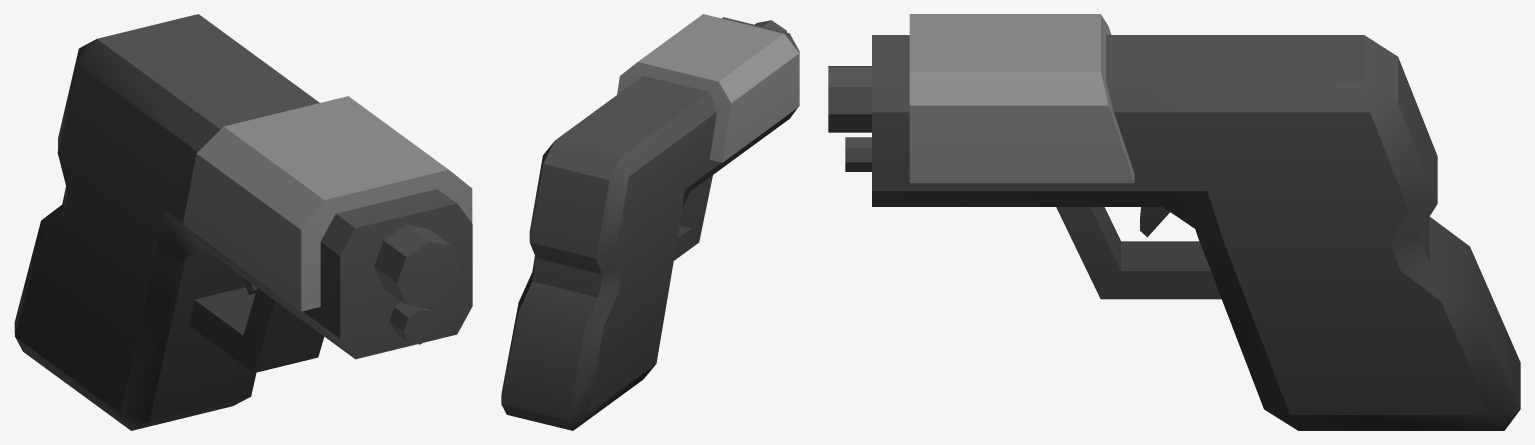
Rendered from Capsule_Weapon_Piston_Single_01.fbx.
3 renders of one model, left to right at view 1: azimuth 30°, elevation 25°; view 2: azimuth 150°, elevation 25°; view 3: azimuth 270°, elevation 25°, orthographic. The views are drawn at different scales.
Parts seen in each view (by area): view 1: Capsule_Weapon_Piston_Single_01; view 2: Capsule_Weapon_Piston_Single_01; view 3: Capsule_Weapon_Piston_Single_01.
Boxes of the visible parts, x1,y1,x2,y2 form: Capsule_Weapon_Piston_Single_01: (14, 14, 472, 430); Capsule_Weapon_Piston_Single_01: (501, 14, 799, 430); Capsule_Weapon_Piston_Single_01: (828, 14, 1520, 430).
Size of the model in its own units: 20.47 by 43.85 by 75.47.
